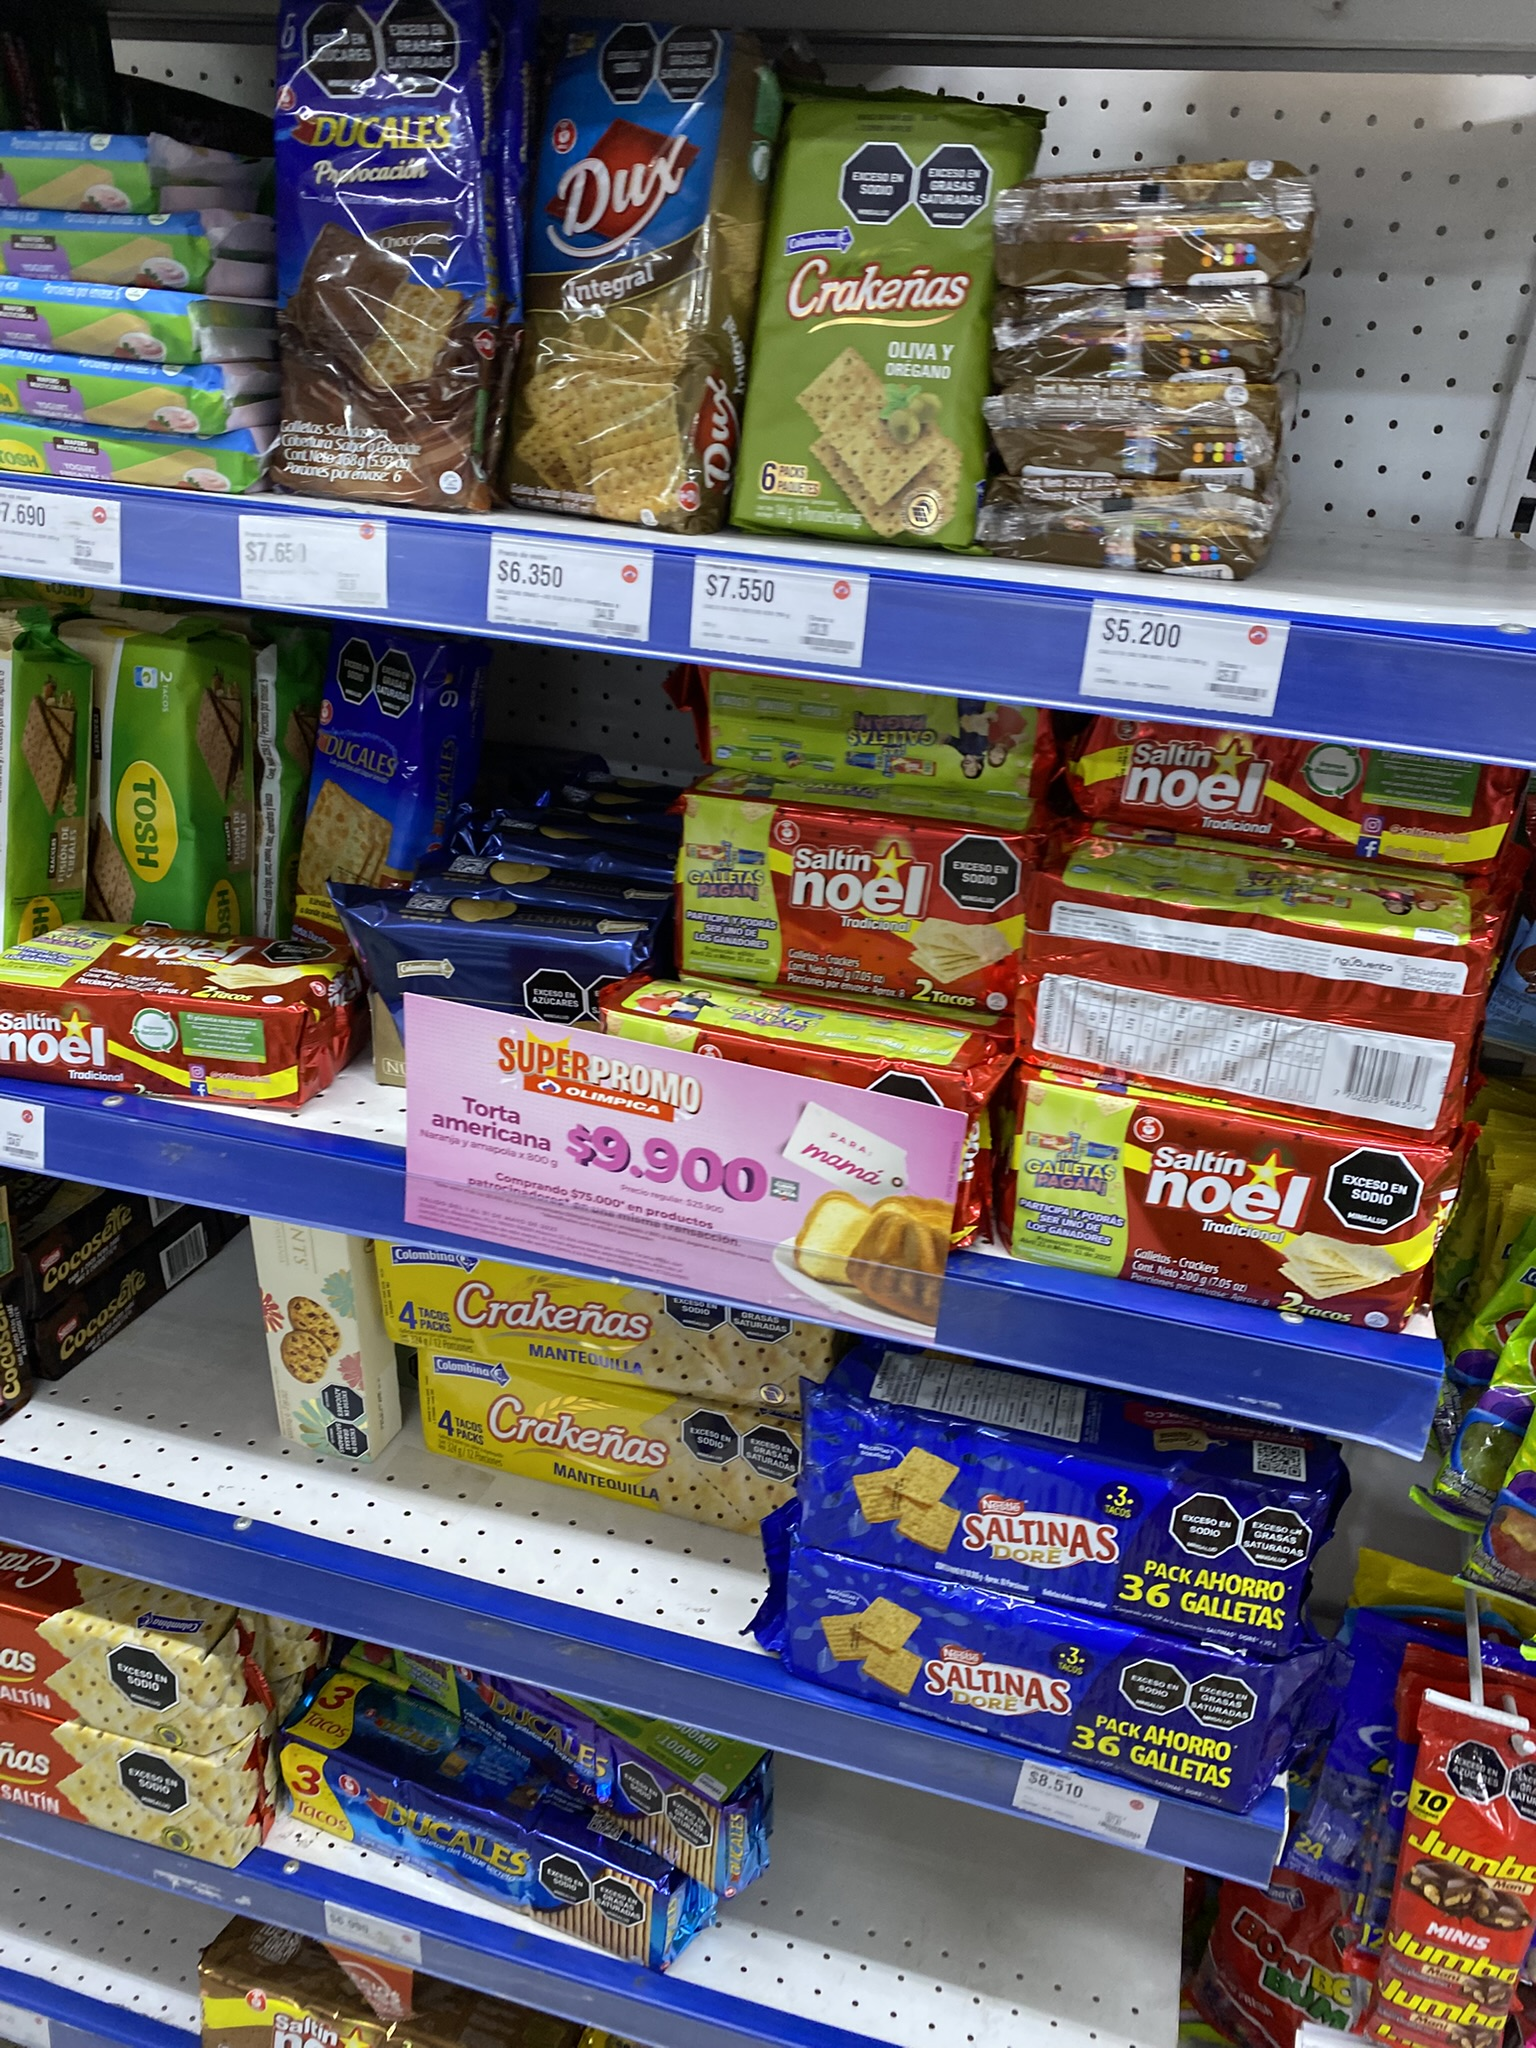Saltin Noel: (1031, 861, 1494, 1132), (1018, 1058, 1457, 1317), (665, 776, 1041, 1022), (1076, 713, 1526, 866), (3, 947, 350, 1109)
